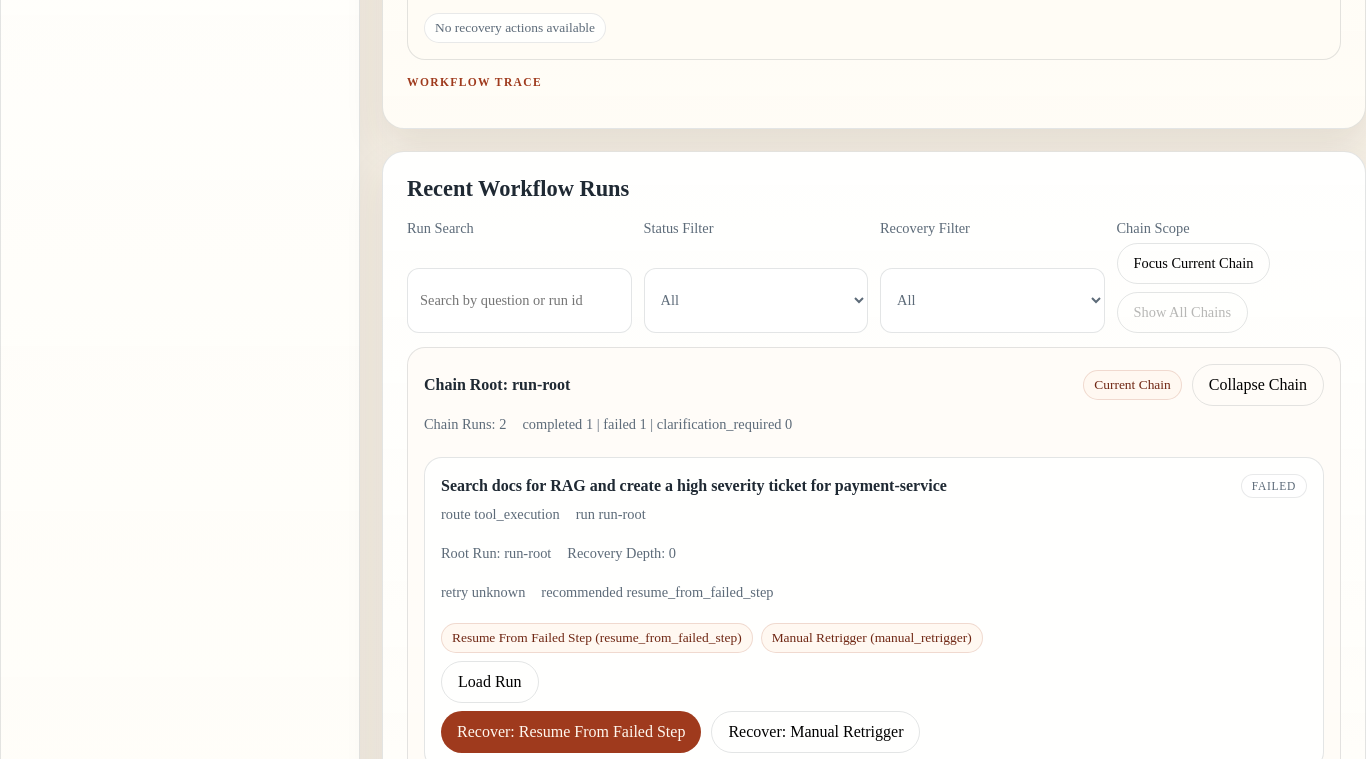
Test: QueryView › groups recent workflow runs by recovery chain and toggles chain visibility
This screenshot has width=1366, height=759.
(page scrolled)
Expected: the text "Current Chain" is shown, [1083,370,1182,400]
Expected: the text "Search docs for RAG and create a high severity ticket for payment-service" is shown, [441,476,947,494]
Click the button "Collapse Chain" at (1258, 384), box [1192,364,1324,406]
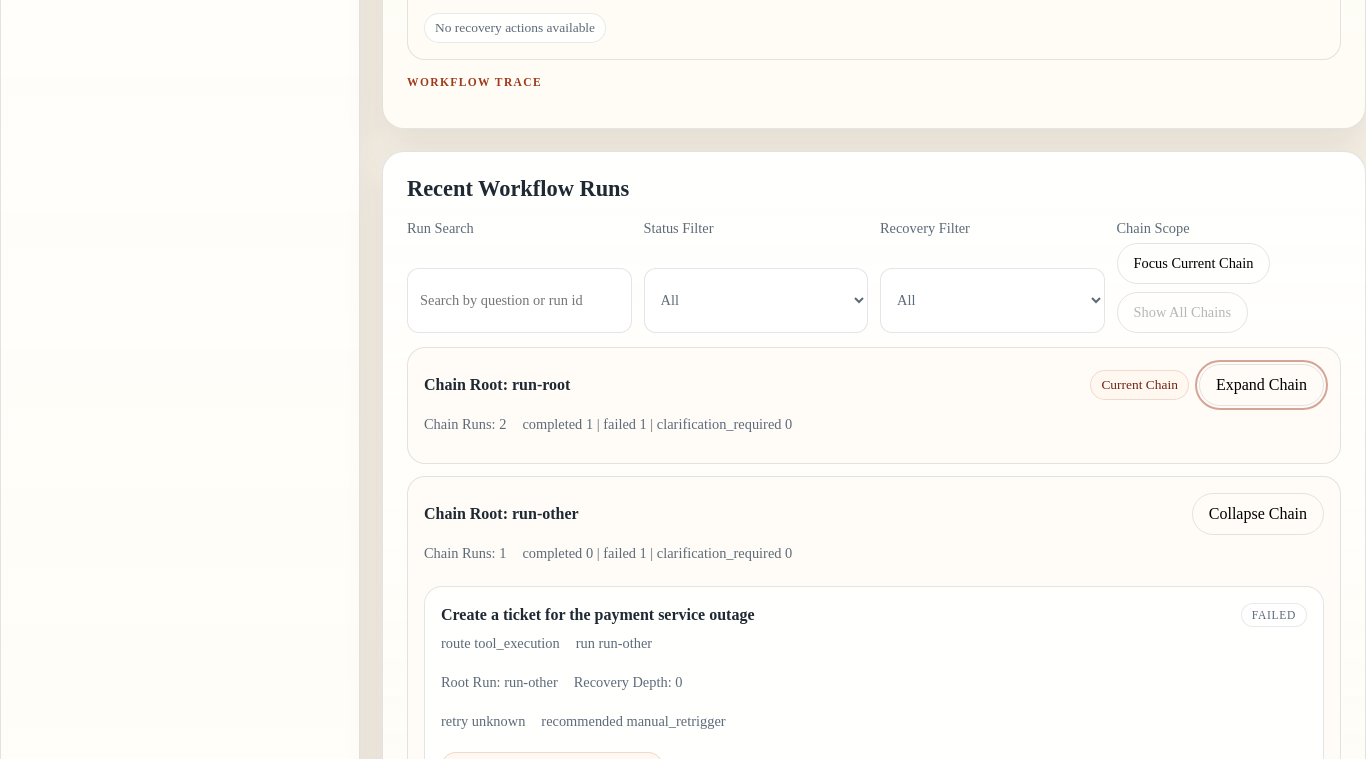
Click the button "Expand Chain" at (1261, 384), box [1199,364,1324,406]
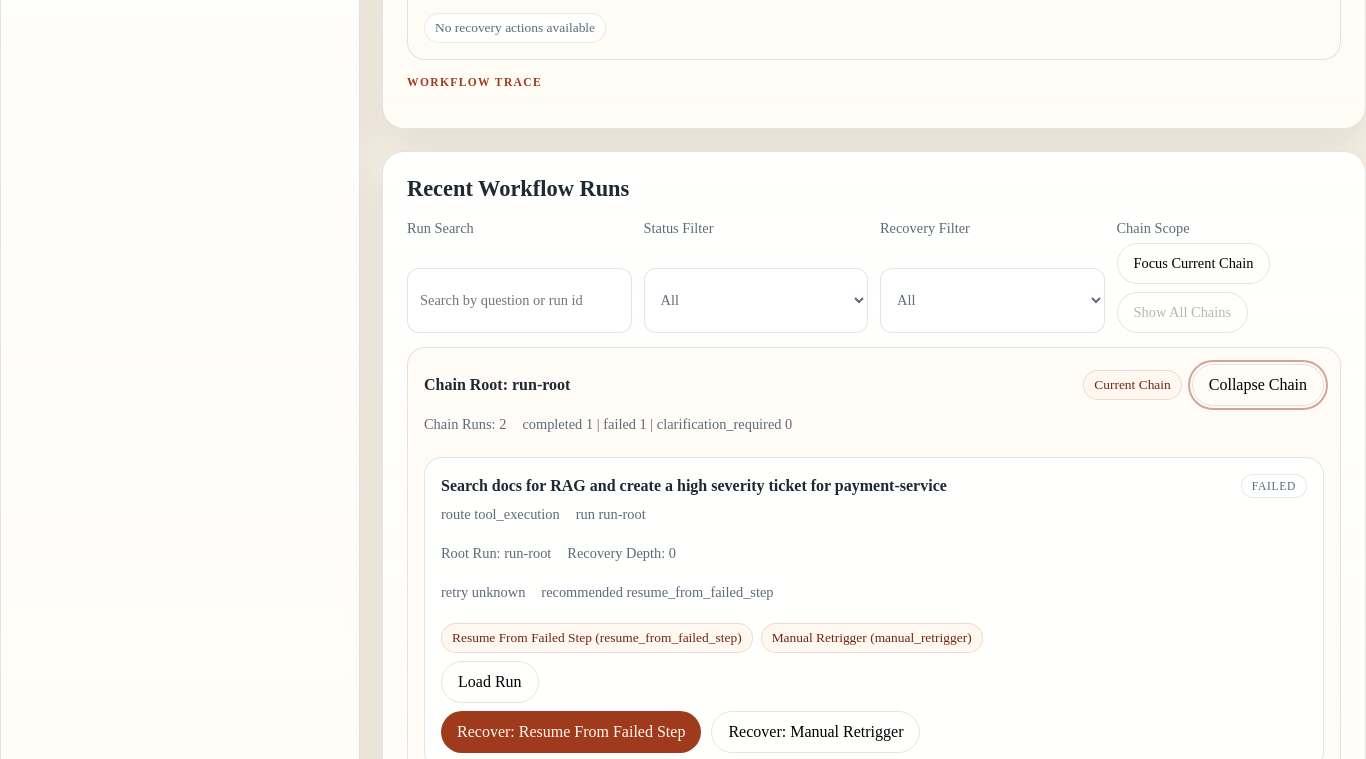
Result: the text "Search docs for RAG and create a high severity ticket for payment-service" is shown at [441,476,947,494]
